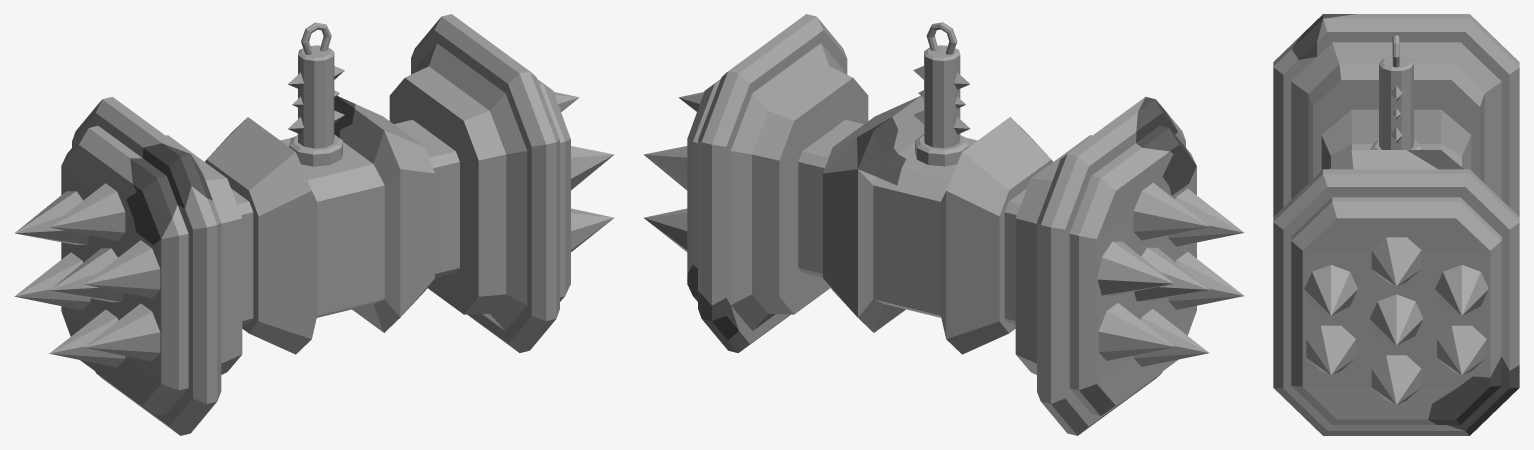
The model's file is MetalPendulumTrap_16.fbx.
3 renders of one model, left to right at view 1: azimuth 30°, elevation 25°; view 2: azimuth 150°, elevation 25°; view 3: azimuth 270°, elevation 25°, orthographic. The views are drawn at different scales.
Visible parts, largest first — view 1: MetalPendulumTrap_16; view 2: MetalPendulumTrap_16; view 3: MetalPendulumTrap_16.
Part boxes in pixels (box(x1,y1,x2,y2)): MetalPendulumTrap_16: box(14, 14, 614, 435); MetalPendulumTrap_16: box(643, 14, 1244, 435); MetalPendulumTrap_16: box(1273, 14, 1519, 435).
Size of the model in its own units: 159 by 98.11 by 68.32.
